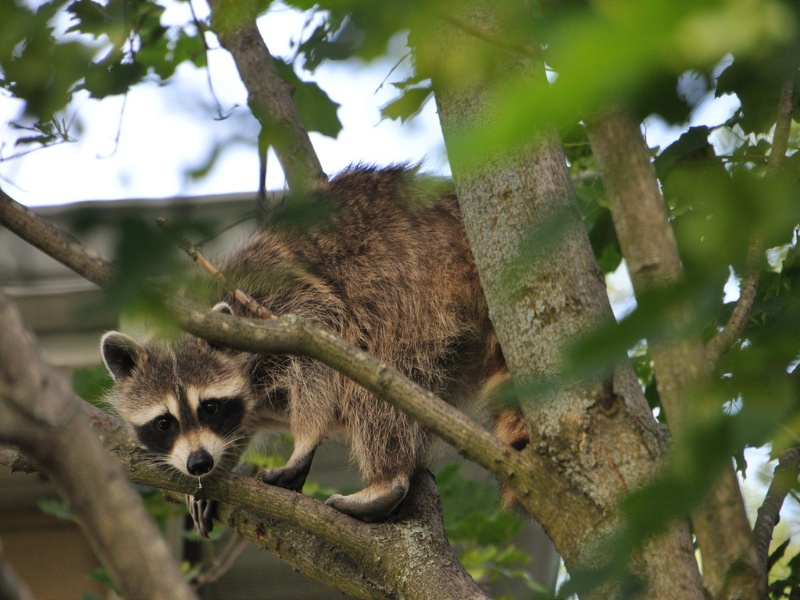raccoon: (95, 162, 546, 528)
